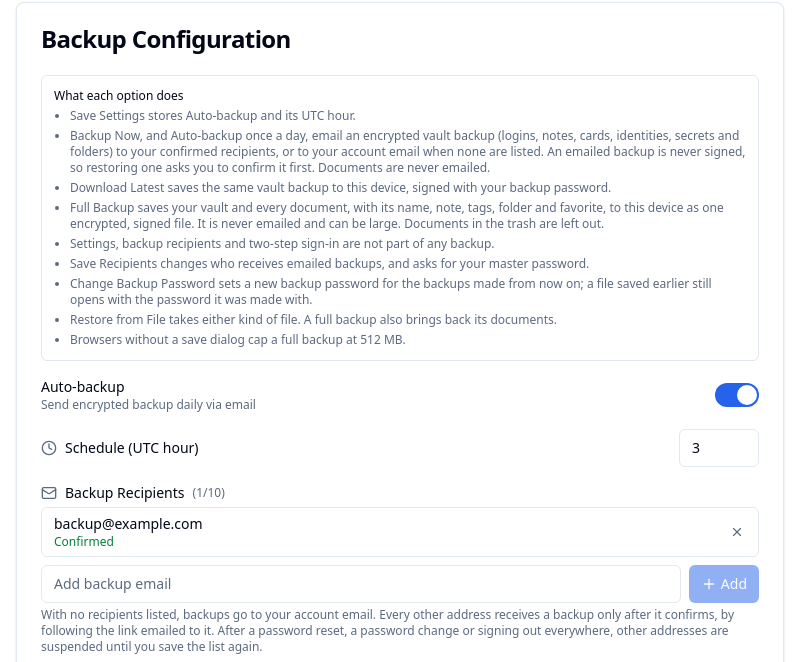
Test case: BackupSettingsPage — emails, download, restore branches › adds a backup email, lowercasing and trimming it, and saves the list with the master-password proof
Type "  Second@Example.COM  " into the field with placeholder "Add backup email" at (361, 584), box [41,565,681,603]
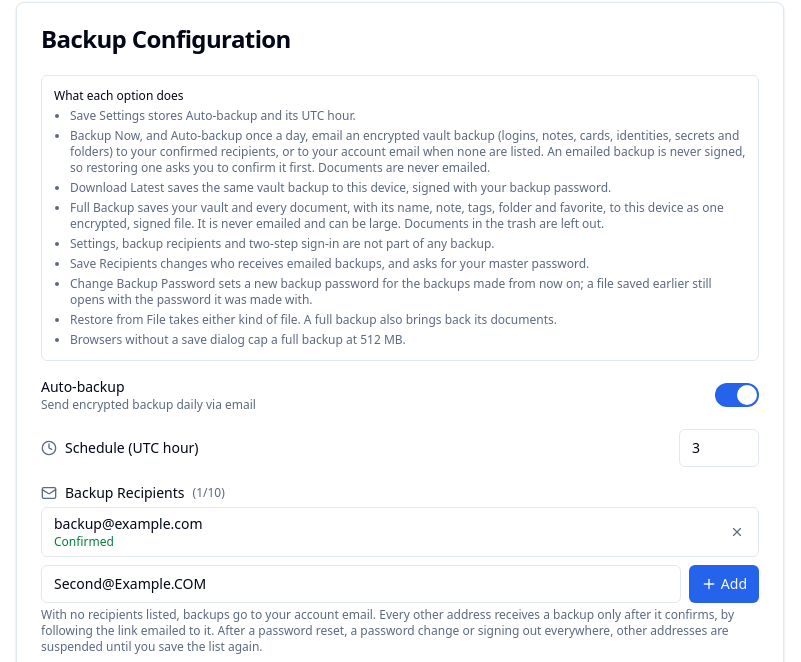
Click the button "Add" at (724, 584), box [689,565,759,603]
(page scrolled)
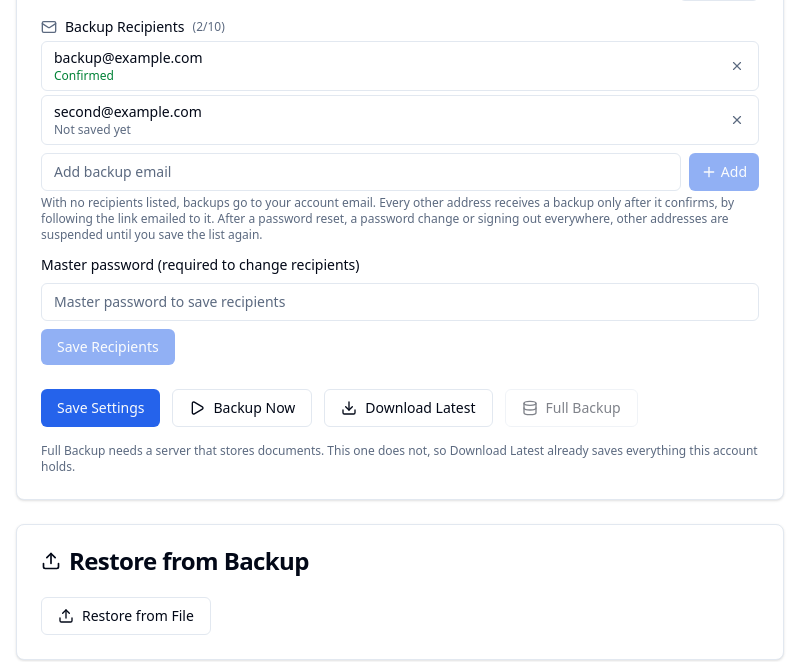
Check: the text "second@example.com" is shown, box [54,102,202,122]
Check: the text "Not saved yet" is shown, box [54,121,131,138]
Check: the field with placeholder "Add backup email" is empty, box [41,153,681,191]
Type "master-pw" into the password field labelled "Master password (required to change recipients)" at (400, 302), box [41,283,759,321]
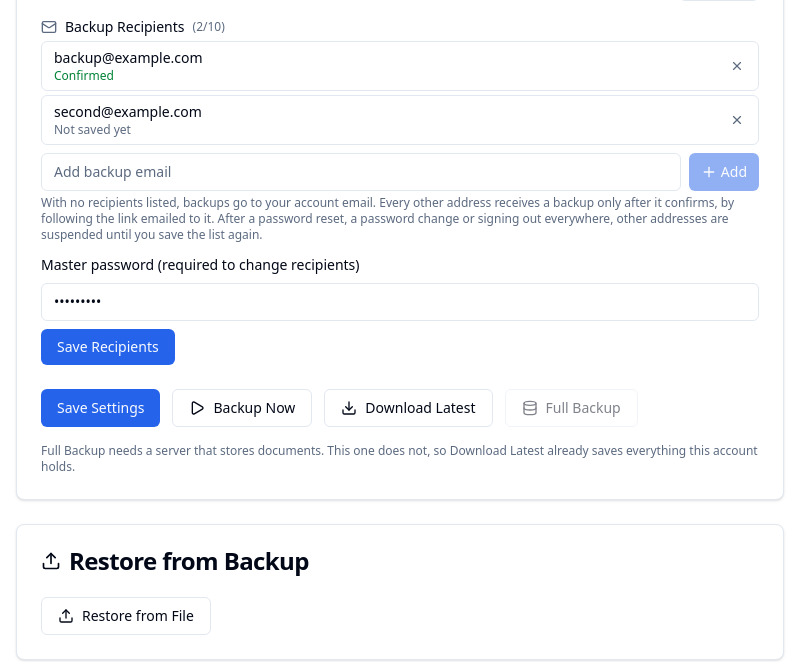
Click the button "Save Recipients" at (108, 347), box [41,329,175,365]
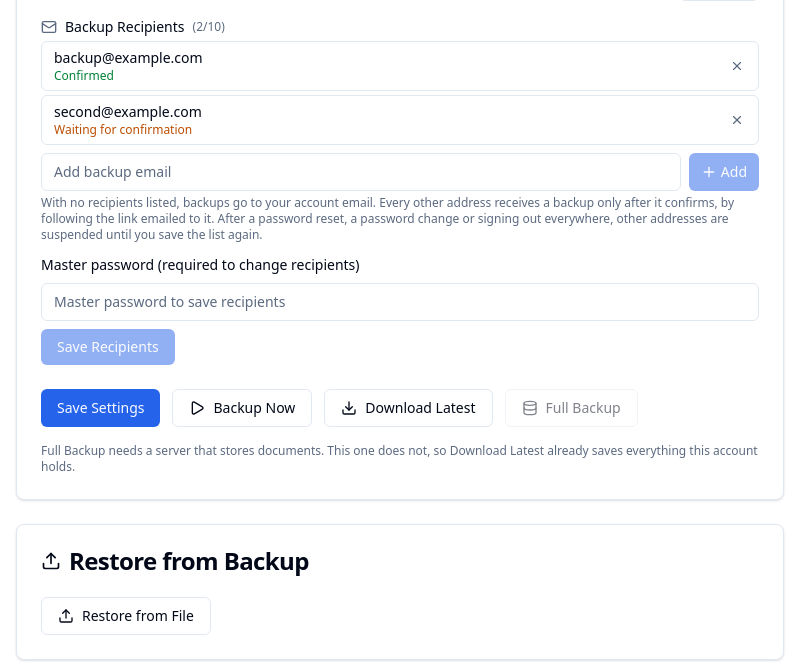
Check: the text "Waiting for confirmation" is shown, box [54,122,202,138]
Check: the password field labelled "Master password (required to change recipients)" is empty, box [41,283,759,321]
